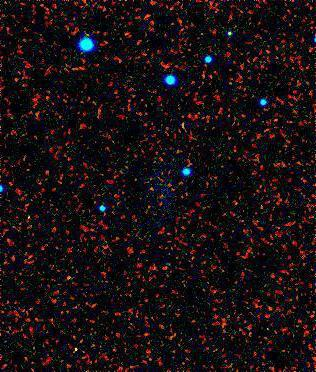star: (52, 262, 82, 292)
